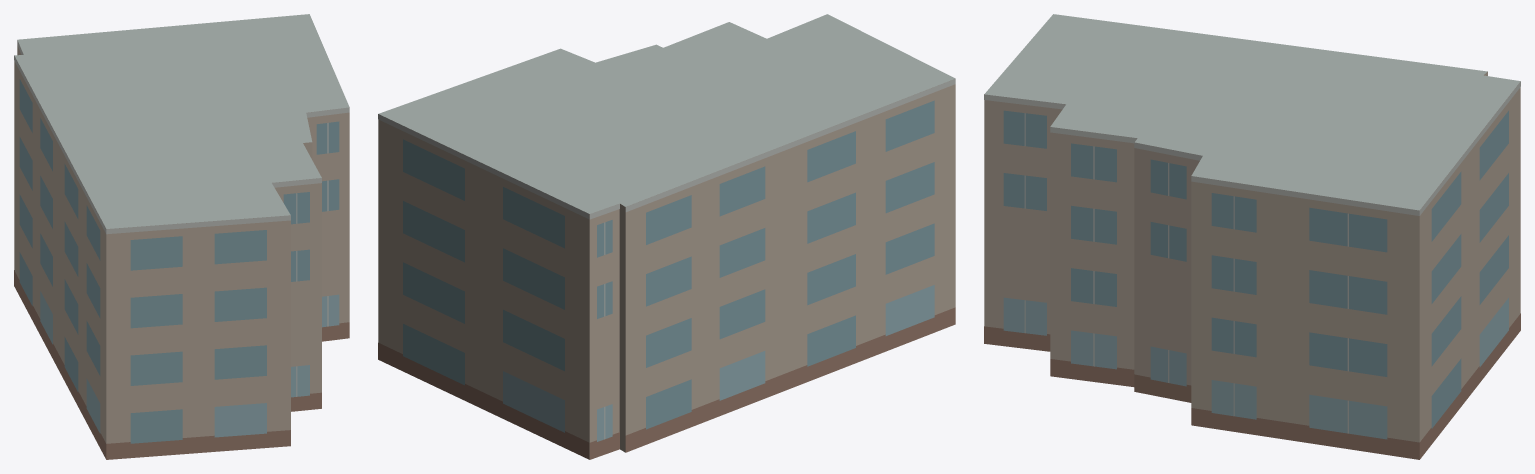
Rendered from survey-upis-32687229.glb.
3 views of the same model, side by side, from view 1: azimuth 30°, elevation 25°; view 2: azimuth 150°, elevation 25°; view 3: azimuth 270°, elevation 25° (orthographic). The views are drawn at different scales.
Visible parts, largest first — view 1: survey-upis-32687229.tmp; view 2: survey-upis-32687229.tmp; view 3: survey-upis-32687229.tmp.
Boxes of the visible parts, x1=… form: survey-upis-32687229.tmp: x1=14, y1=14, x2=349, y2=459; survey-upis-32687229.tmp: x1=378, y1=14, x2=955, y2=459; survey-upis-32687229.tmp: x1=984, y1=14, x2=1520, y2=459.
Bounding box in the file's own units: 18.43 × 10.9 × 21.27.
